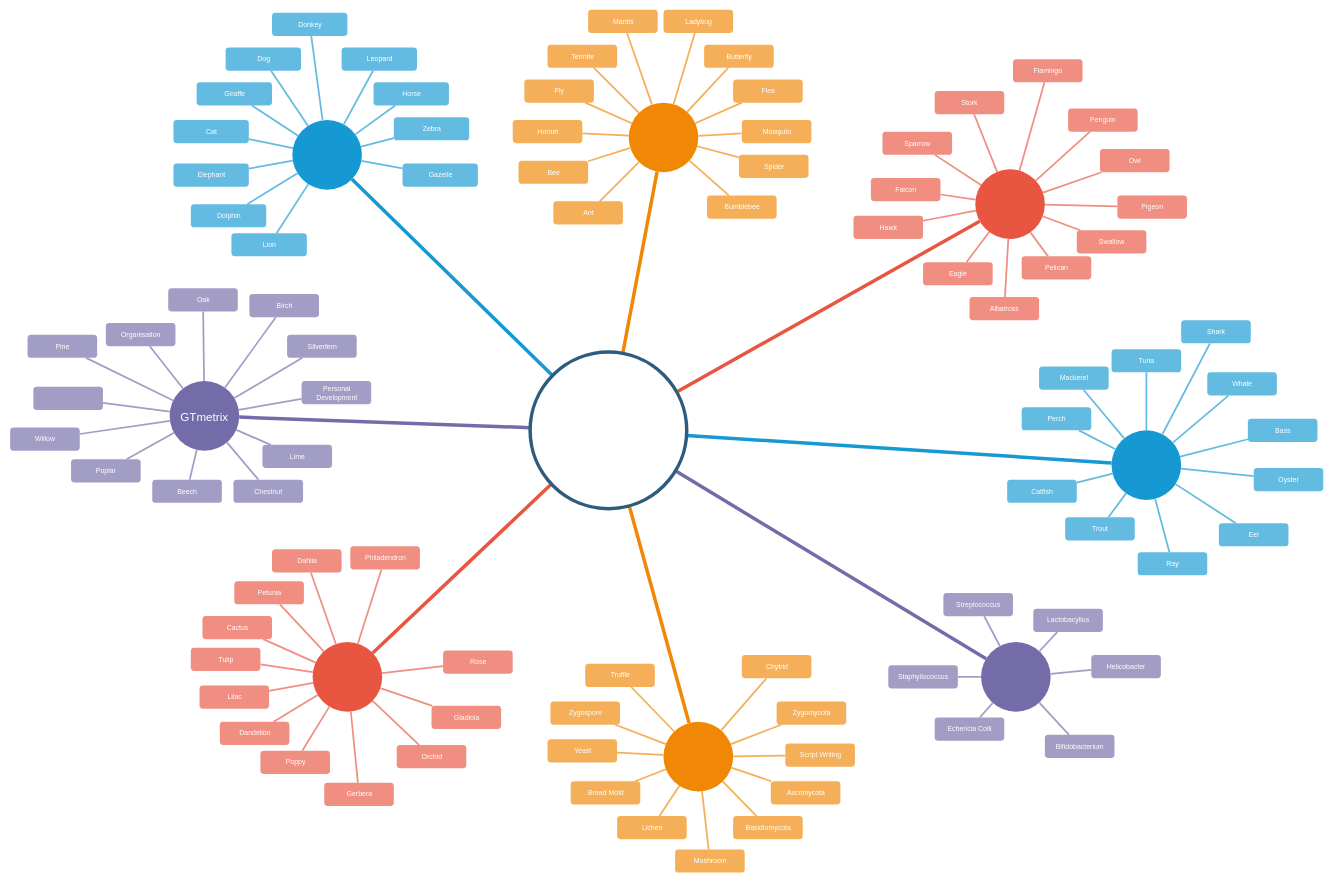
This 1333x883 diagram has some shape labels left out. Each missing label, with the box of its shape:
Acacia: (33, 387, 103, 410)
azarland seo: (528, 350, 688, 510)
Bacteria: (981, 642, 1050, 711)
Bird: (975, 169, 1045, 239)
Fish: (1111, 430, 1181, 500)
Flower: (312, 642, 382, 711)
Fungi: (663, 722, 733, 791)
Google Analytics: (292, 120, 362, 189)
Google Search Console: (628, 102, 698, 172)
